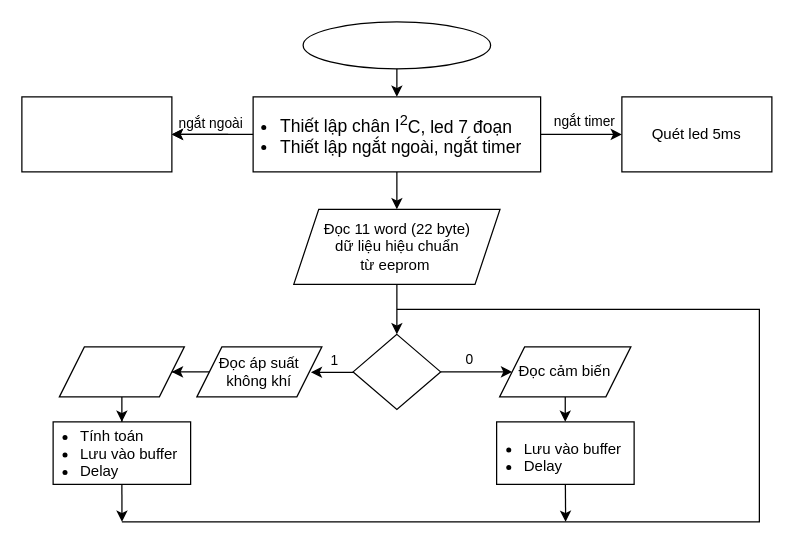
Some shapes in this 794 by 554 pixel diagram are drawn without their labels. Each missing label, with the box of its shape:
Khởi động: (302, 21, 491, 69)
Mode: (352, 333, 441, 409)
đảo mode: (21, 96, 172, 172)
Đọc áp suất nước: (58, 346, 184, 397)
